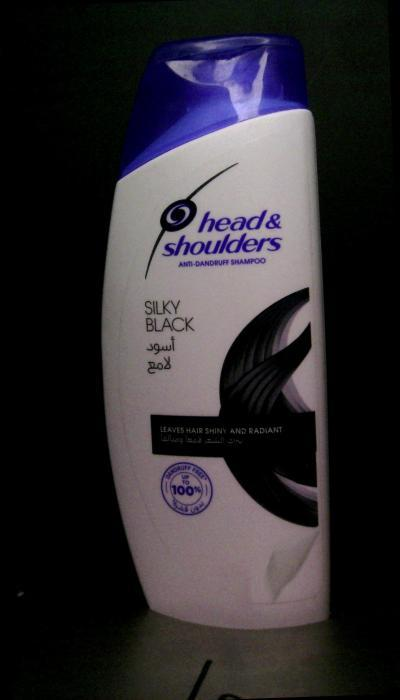adhesion_unacc: (258, 524, 322, 607)
